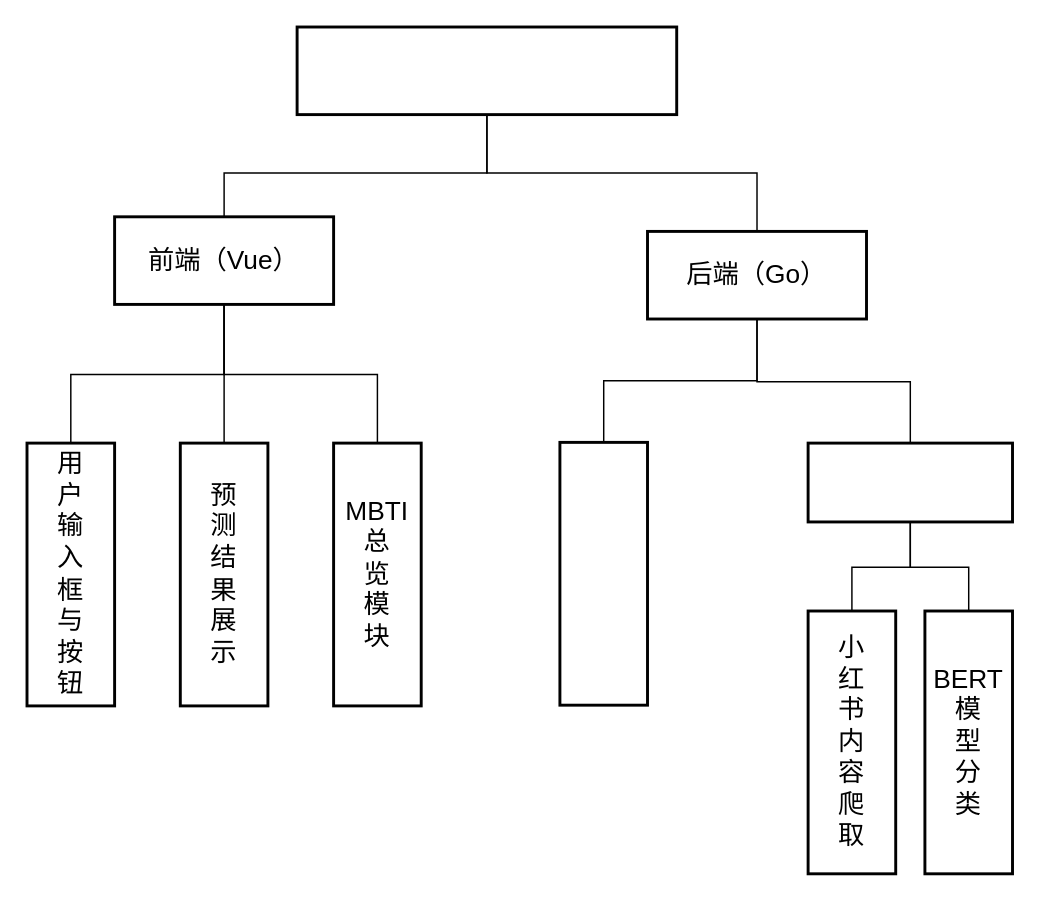
The diagram is 1038 pixels wide and 899 high, and some of its shapes have lost their labels. Here are the shapes that lost their labels. From the top down, the box of each, then its label:
(295, 25, 677, 115): MBTI在线分类系统设计与实现
(806, 441, 1013, 523): 推理与爬虫
(558, 440, 648, 706): 处 理 请 求 并 转 发
